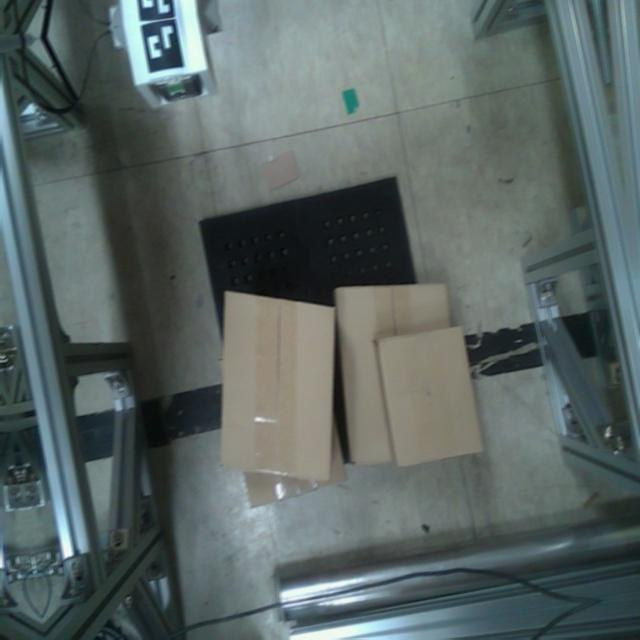box: (215, 286, 338, 484), (369, 318, 494, 474)
